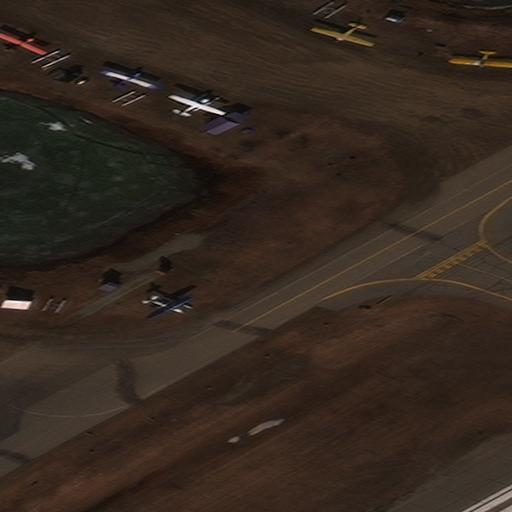Small Civil Transport: (309, 22, 371, 47), (170, 93, 227, 116), (448, 50, 512, 69), (0, 32, 48, 52), (148, 298, 193, 319), (103, 69, 153, 87)
